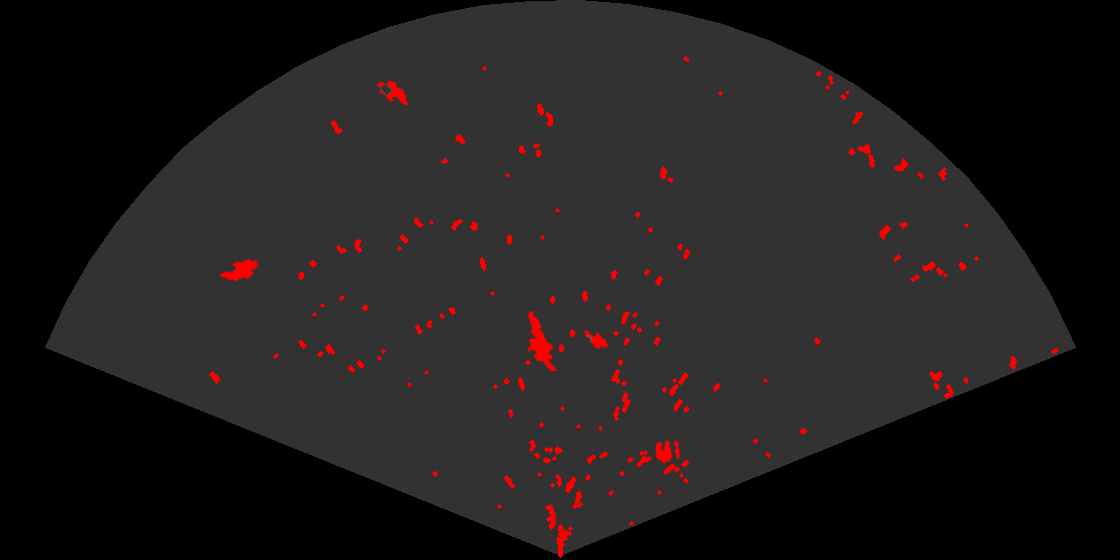AUV: (218, 257, 260, 283), (375, 79, 410, 107), (582, 328, 610, 351)
ball: (654, 438, 682, 465)
frogman: (526, 309, 559, 371)
